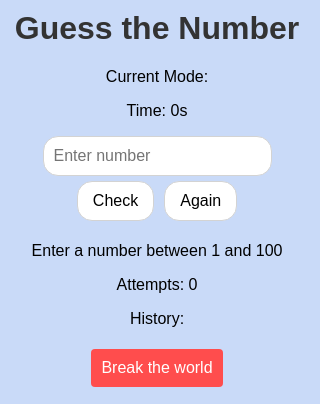
Test: Виводить попередження, якщо введене число більше 100
Type "105" into the number field with placeholder "Enter number" at (157, 156), box 42,136 -> 272,176
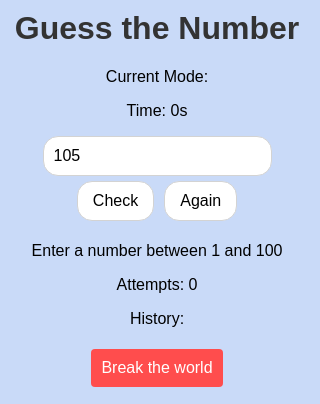
Click the button "Check" at (116, 201), box 77,181 -> 154,221
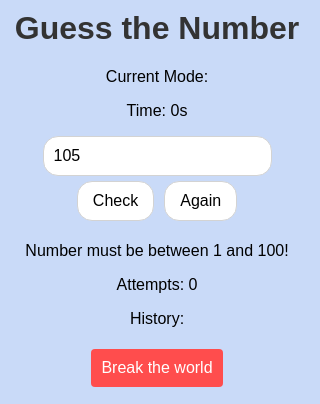
Result: the text "Number must be between 1 and 100!" is shown at 25,242 -> 289,259
